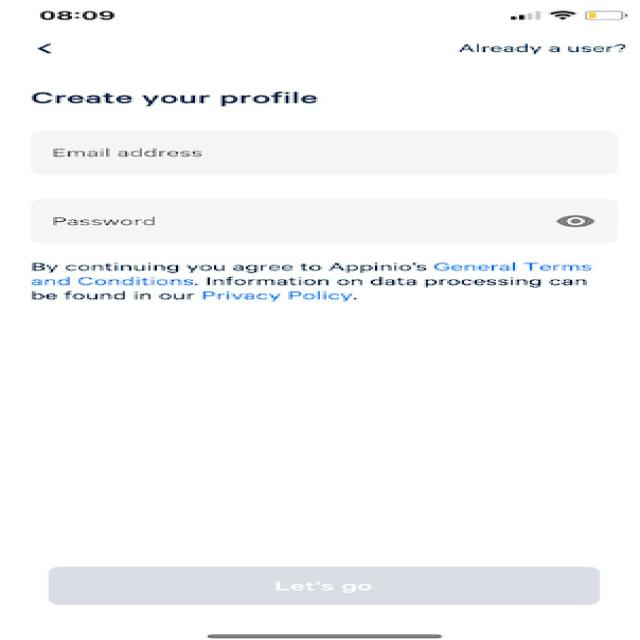button: (16, 553, 625, 616)
icon button: (16, 34, 80, 64)
input: (13, 120, 632, 185), (13, 188, 635, 248)
spacer: (12, 335, 628, 544)
text: (10, 255, 625, 327), (4, 80, 364, 114)
